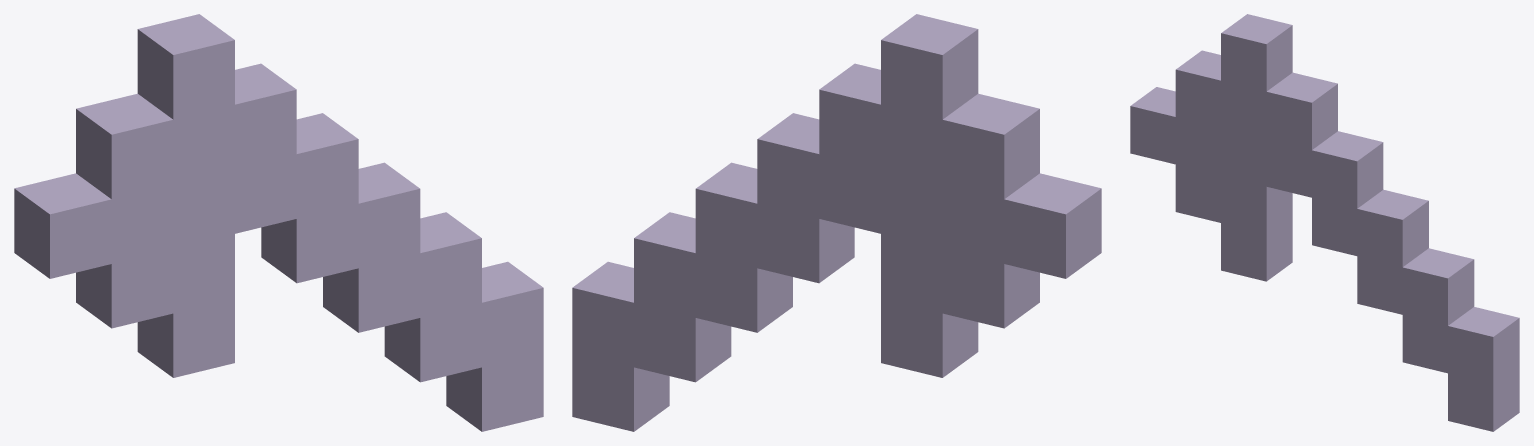
Rendered from Axe-Grey.vox.obj.
3 renders of one model, left to right at view 1: azimuth 30°, elevation 25°; view 2: azimuth 150°, elevation 25°; view 3: azimuth 330°, elevation 25°, orthographic. The views are drawn at different scales.
Size of the model in its own units: 0.8 by 0.7 by 0.1.
1 material, 1 textured.
